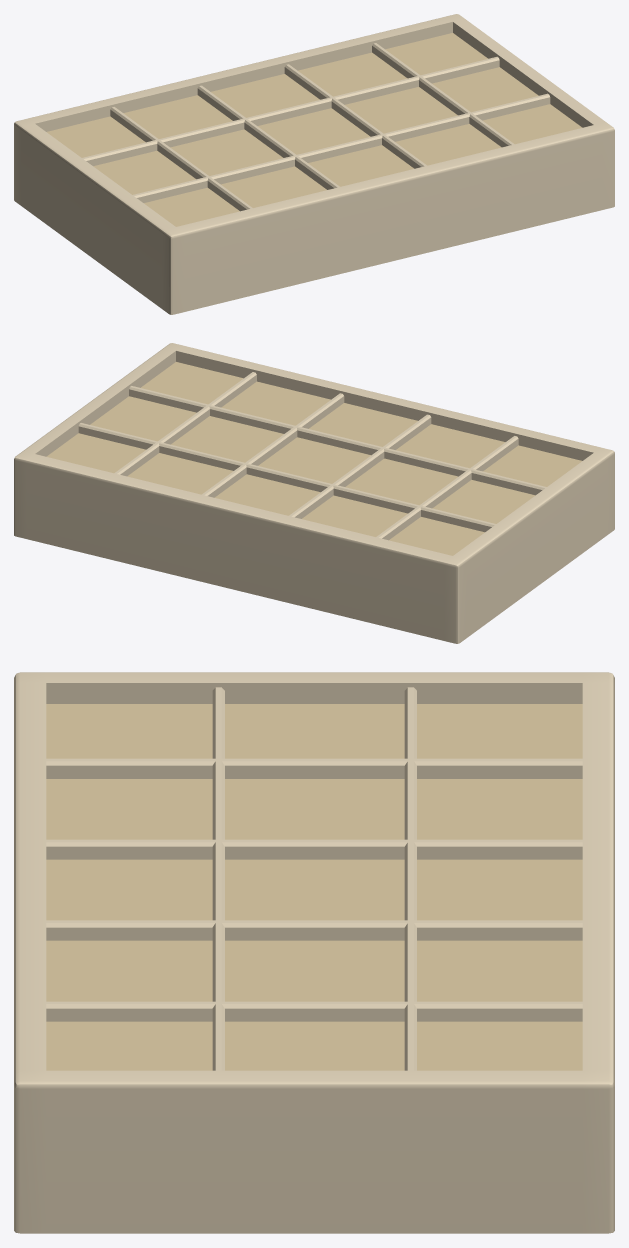
Rendered from Merge_Tahtasii.fbx.
3 renders of one model, top to bottom at view 1: azimuth 30°, elevation 25°; view 2: azimuth 150°, elevation 25°; view 3: azimuth 270°, elevation 25°, orthographic. The views are drawn at different scales.
Visible parts, largest first — view 1: Merge_Table; view 2: Merge_Table; view 3: Merge_Table.
Boxes of the visible parts, left/top/right/bottom form: Merge_Table: left=14, top=14, right=614, bottom=314; Merge_Table: left=14, top=343, right=614, bottom=643; Merge_Table: left=14, top=672, right=614, bottom=1233.
Size of the model in its own units: 511 by 86.44 by 314.
